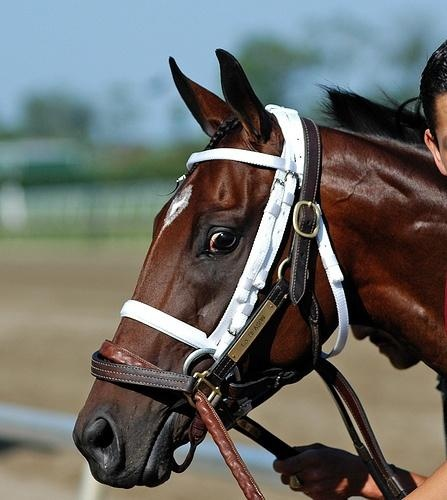horse: (71, 47, 447, 493)
